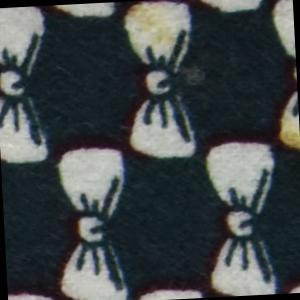Stain: (124, 1, 178, 51), (269, 124, 300, 161)
